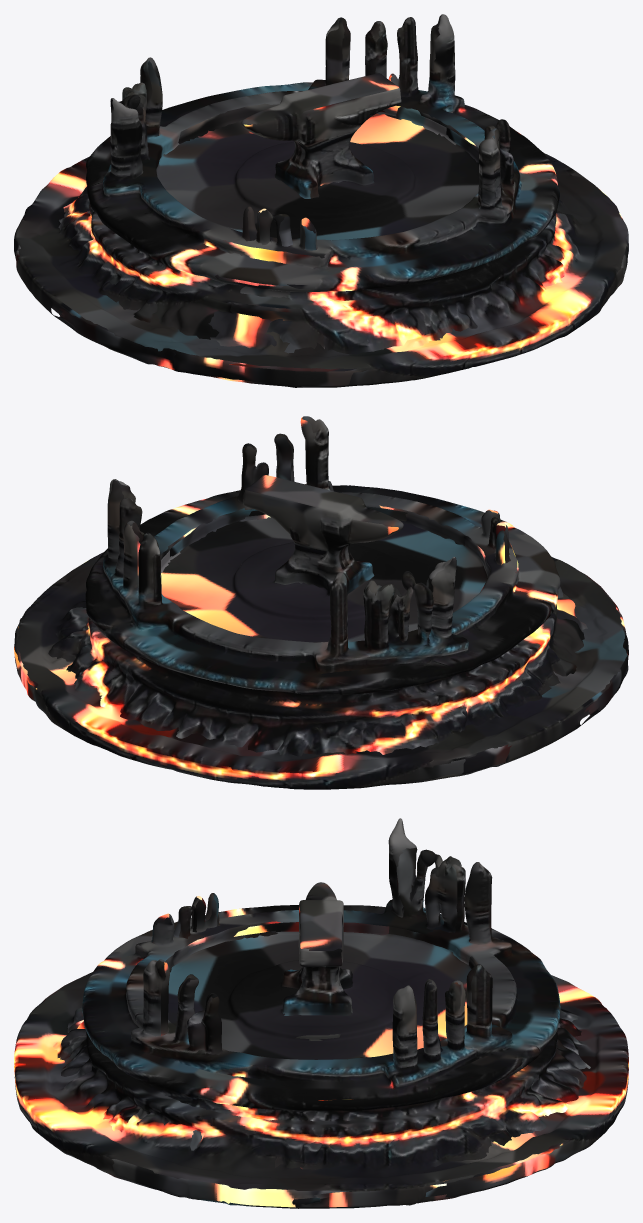
File: struct_forge_platform.glb
The picture shows the model from 3 angles, top to bottom: view 1: azimuth 30°, elevation 25°; view 2: azimuth 150°, elevation 25°; view 3: azimuth 270°, elevation 25°; orthographic projection.
Visible parts, largest first — view 1: geometry_0; view 2: geometry_0; view 3: geometry_0.
Part boxes in pixels (box(x1,y1,x2,y2)): geometry_0: box(14, 14, 628, 387); geometry_0: box(14, 416, 628, 789); geometry_0: box(14, 818, 628, 1208).
Bounding box in the file's own units: 19.01 × 6 × 18.84.
Materials: 1 (1 with a texture image).
